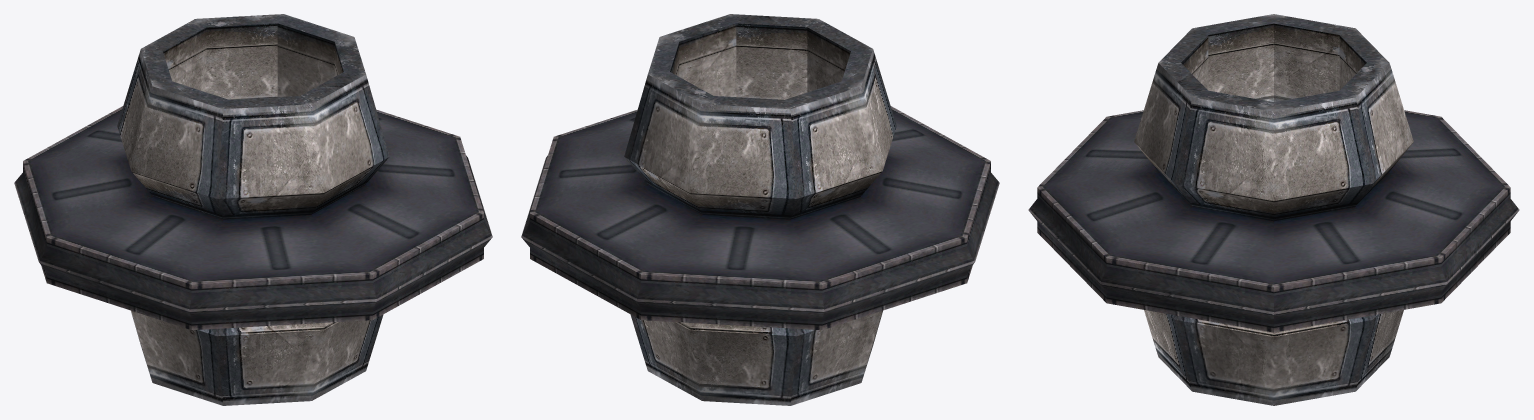
Rendered from kessel_mine_missileturret_main_s01_l1.fbx.
3 views of the same model, side by side, from view 1: azimuth 30°, elevation 25°; view 2: azimuth 150°, elevation 25°; view 3: azimuth 270°, elevation 25° (orthographic).
Visible parts, largest first — view 1: mesh_node; view 2: mesh_node; view 3: mesh_node.
Boxes of the visible parts, x1,y1,x2,y2 form: mesh_node: (14, 14, 492, 405); mesh_node: (521, 14, 999, 405); mesh_node: (1028, 14, 1519, 405).
Bounding box in the file's own units: 9.23 × 6.1 × 9.23.
